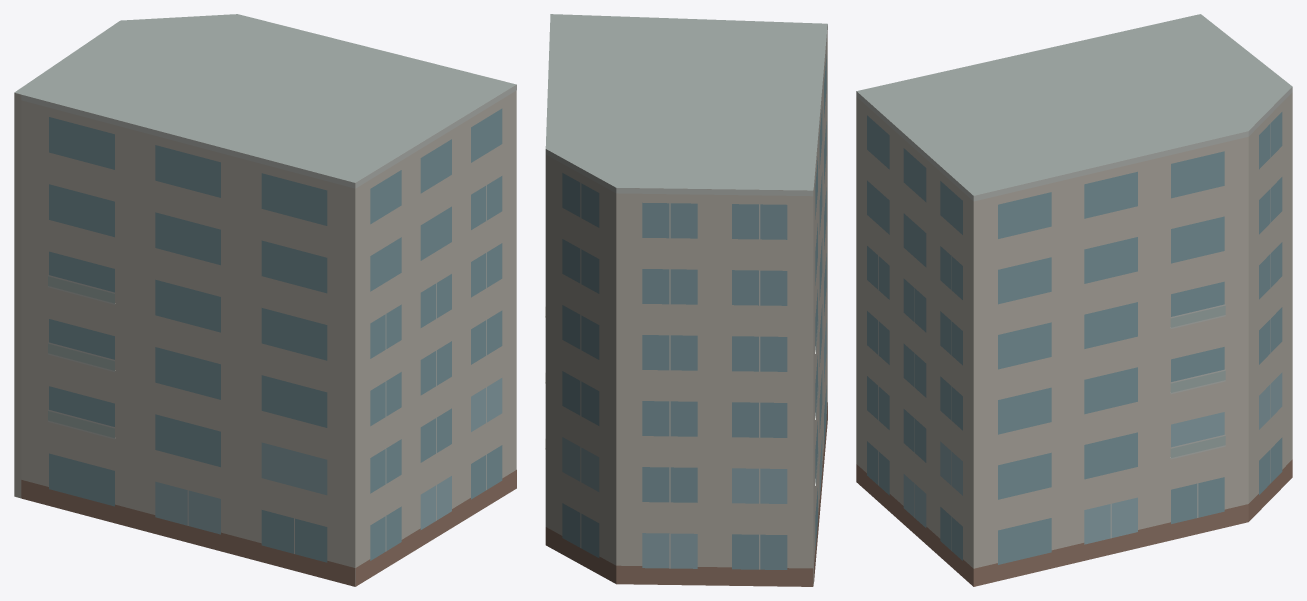
The model's file is survey-upis-32863827.glb.
3 renders of one model, left to right at view 1: azimuth 30°, elevation 25°; view 2: azimuth 150°, elevation 25°; view 3: azimuth 270°, elevation 25°, orthographic. The views are drawn at different scales.
Visible parts, largest first — view 1: survey-upis-32863827.tmp; view 2: survey-upis-32863827.tmp; view 3: survey-upis-32863827.tmp.
Boxes of the visible parts, bbox=[...] form: survey-upis-32863827.tmp: bbox=[14, 14, 516, 586]; survey-upis-32863827.tmp: bbox=[545, 14, 827, 586]; survey-upis-32863827.tmp: bbox=[856, 14, 1292, 586].
Size of the model in its own units: 17.08 by 17.1 by 17.3.
